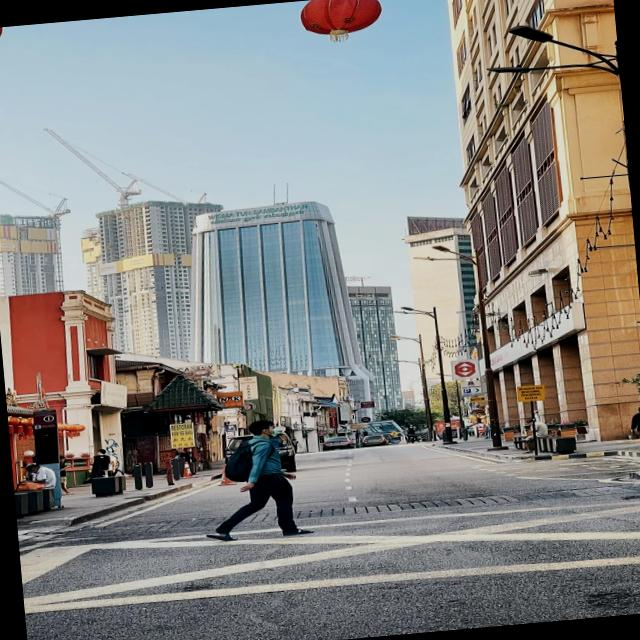Person: (192, 410, 324, 552)
